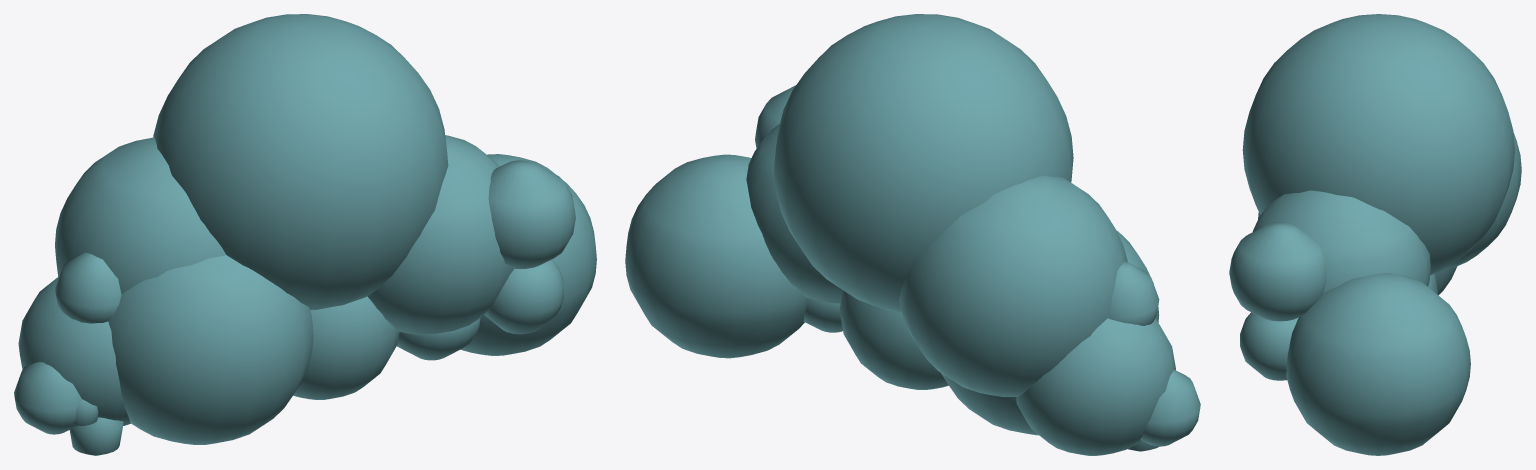
Rendered from Cloud_A.fbx.
The picture shows the model from 3 angles, left to right: view 1: azimuth 30°, elevation 25°; view 2: azimuth 150°, elevation 25°; view 3: azimuth 270°, elevation 25°; orthographic projection. The views are drawn at different scales.
Visible parts, largest first — view 1: Cloud_A; view 2: Cloud_A; view 3: Cloud_A.
Part boxes in pixels (x1,y1,x2,y2): Cloud_A: (14,14,596,455); Cloud_A: (625,14,1200,455); Cloud_A: (1229,14,1521,455).
Bounding box in the file's own units: 549 × 352 × 273.
